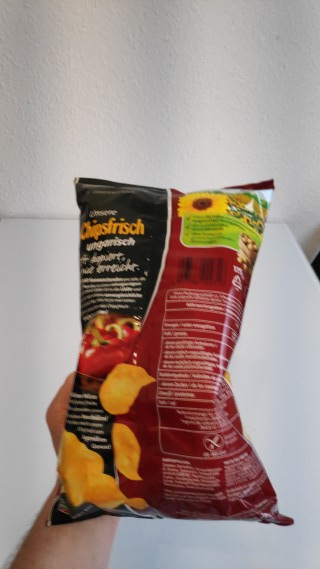chipsfrisch: (41, 175, 295, 528)
